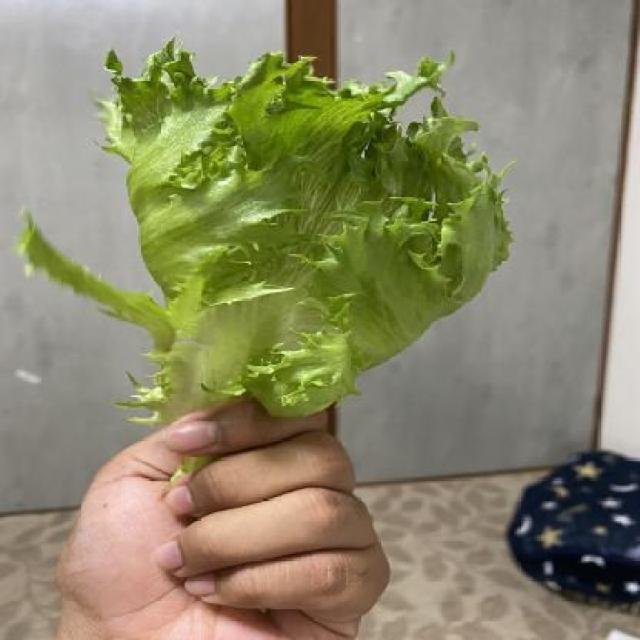Lettuce: (96, 39, 521, 443)
